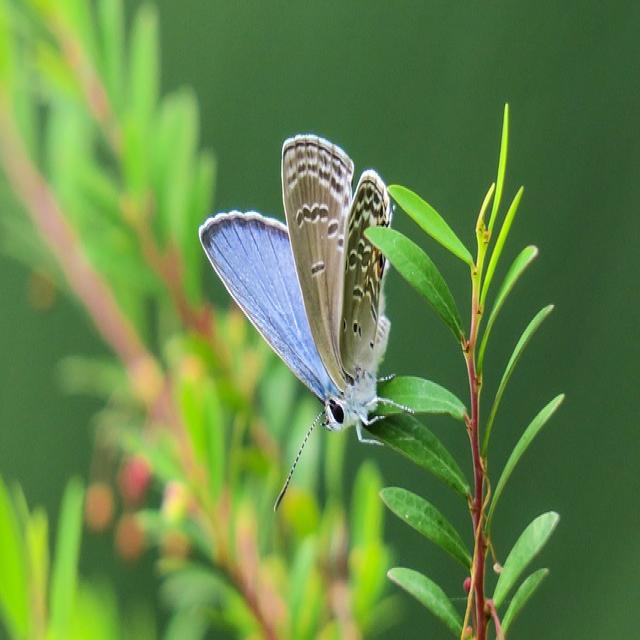butterfly: (199, 135, 391, 433)
